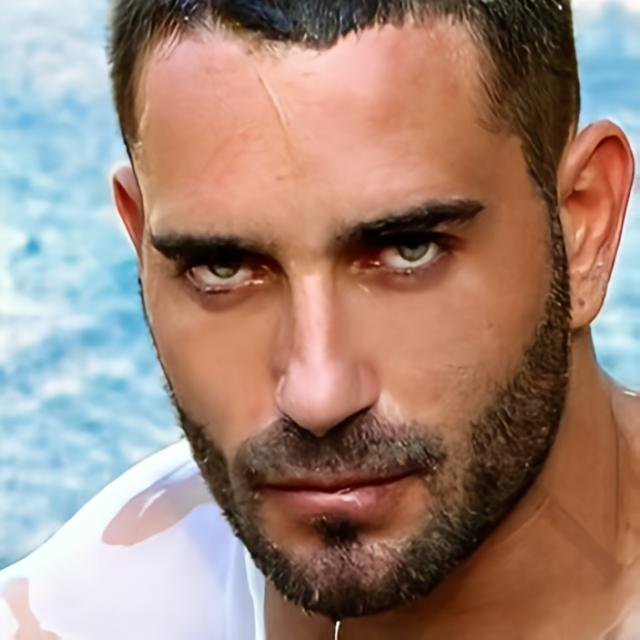anger: (139, 10, 546, 592)
